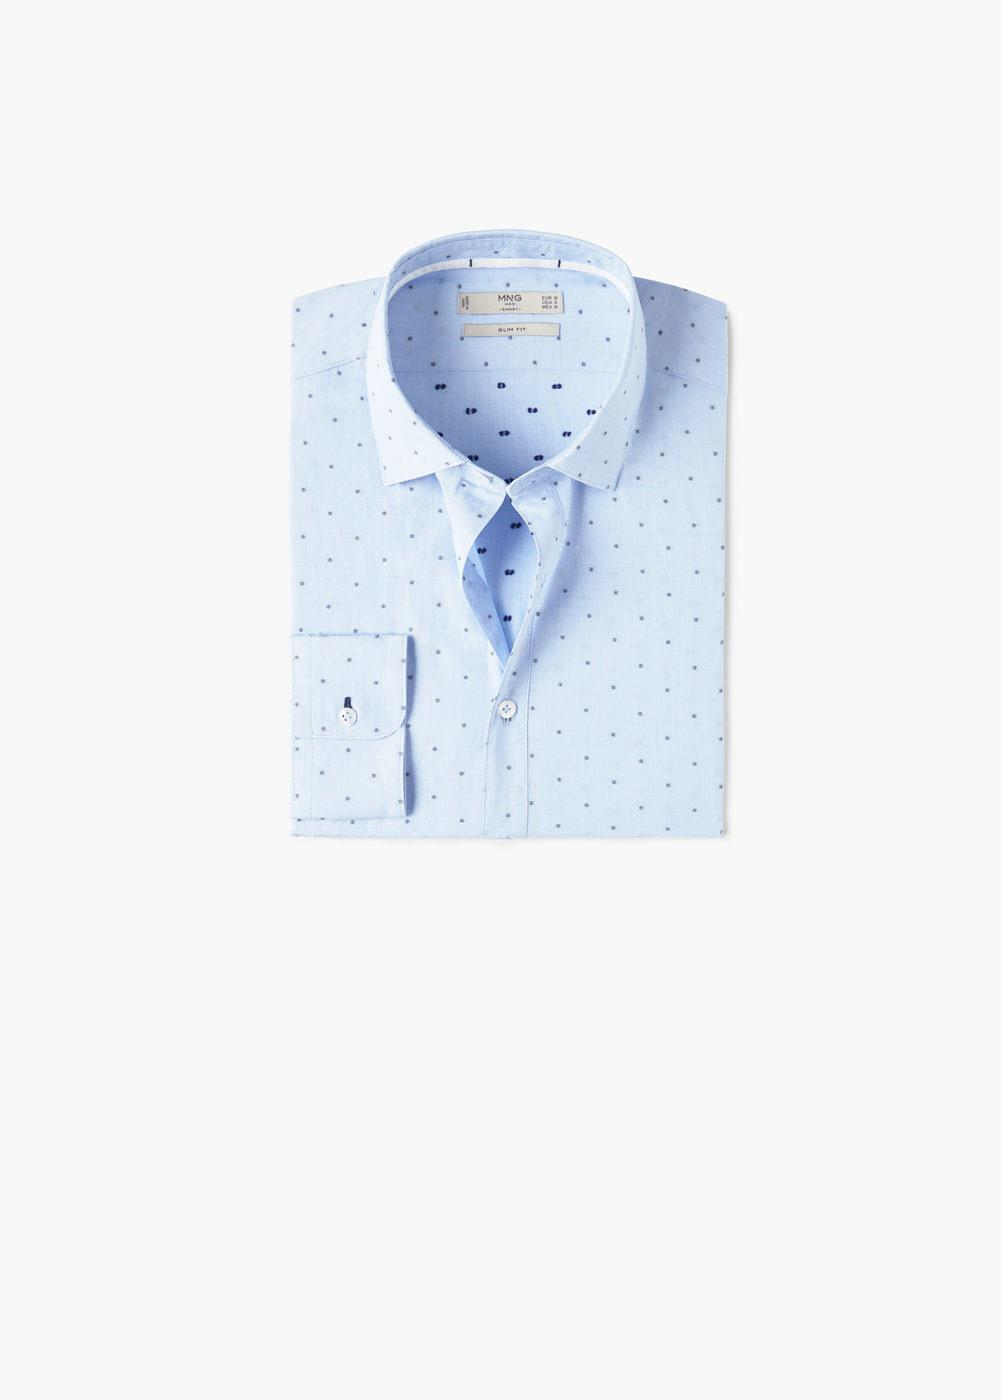teeshirt: (240, 246, 806, 901)
